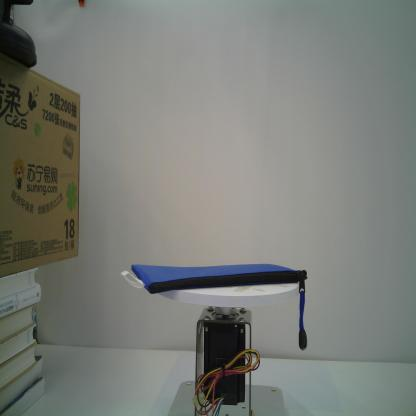Stationery: (119, 260, 309, 353)
